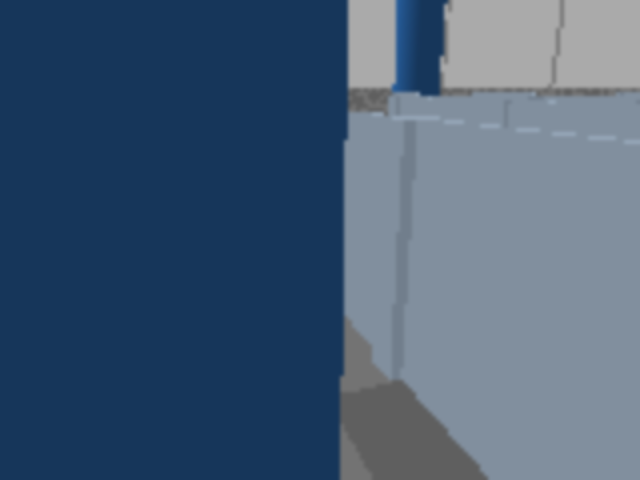puck: (41, 288, 82, 328)
